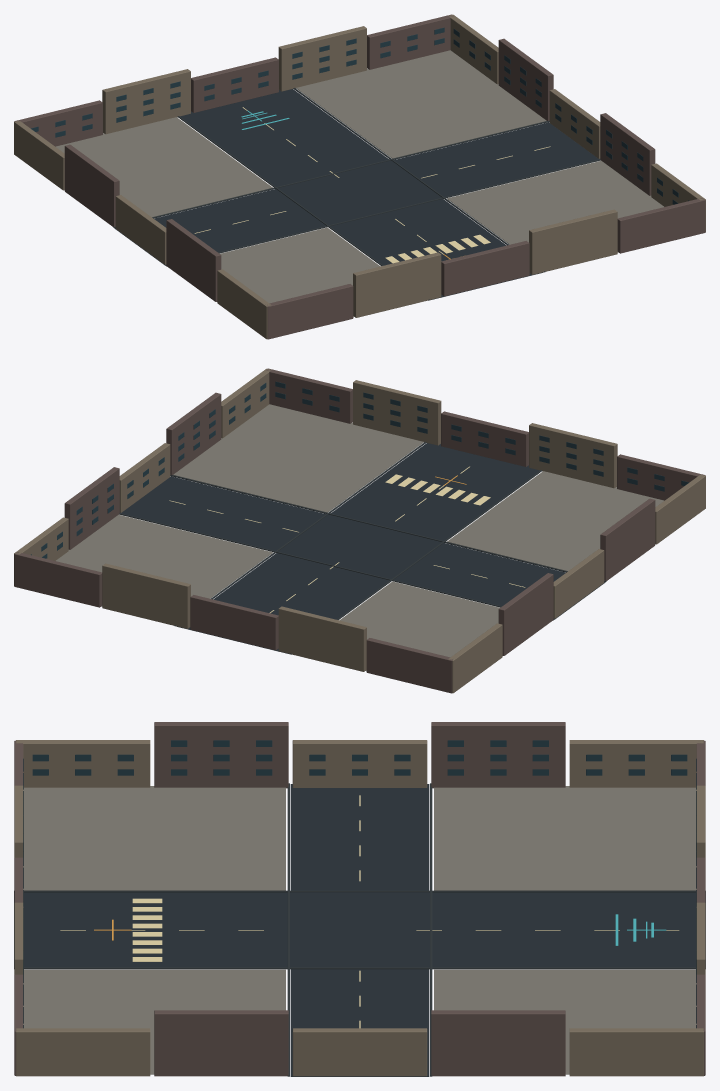
File: streetscape.glb
The picture shows the model from 3 angles, top to bottom: view 1: azimuth 30°, elevation 25°; view 2: azimuth 150°, elevation 25°; view 3: azimuth 270°, elevation 25°; orthographic projection. The views are drawn at different scales.
Parts seen in each view (by area): view 1: HorizontalRoad, VerticalRoad, SidewalkBlock.002, SidewalkBlock, SidewalkBlock.003, SidewalkBlock.001, PerimeterFacade.018, PerimeterFacade.016, PerimeterFacade.013, PerimeterFacade.011, PerimeterFacade.019, PerimeterFacade.017 (+18 smaller); view 2: HorizontalRoad, VerticalRoad, SidewalkBlock.003, SidewalkBlock.001, SidewalkBlock.002, SidewalkBlock, PerimeterFacade.013, PerimeterFacade.011, PerimeterFacade.018, PerimeterFacade.016, PerimeterFacade.014, PerimeterFacade.012 (+18 smaller); view 3: VerticalRoad, HorizontalRoad, SidewalkBlock, SidewalkBlock.001, SidewalkBlock.002, SidewalkBlock.003, PerimeterFacade.006, PerimeterFacade.008, PerimeterFacade.001, PerimeterFacade.003, PerimeterFacade.007, PerimeterFacade.005 (+14 smaller).
Part boxes in pixels (x1,y1,x2,y2): HorizontalRoad: [114, 122, 599, 265]; VerticalRoad: [180, 89, 543, 300]; SidewalkBlock.002: [296, 50, 546, 158]; SidewalkBlock: [56, 117, 272, 217]; SidewalkBlock.003: [447, 160, 663, 252]; SidewalkBlock.001: [220, 227, 380, 317]; PerimeterFacade.018: [529, 209, 617, 274]; PerimeterFacade.016: [353, 252, 441, 317]; PerimeterFacade.013: [278, 26, 366, 91]; PerimeterFacade.011: [102, 69, 190, 134]; PerimeterFacade.019: [617, 198, 705, 253]; PerimeterFacade.017: [441, 241, 529, 296]; HorizontalRoad: [120, 476, 605, 619]; VerticalRoad: [176, 443, 539, 654]; SidewalkBlock.003: [173, 404, 423, 512]; SidewalkBlock.001: [447, 471, 663, 571]; SidewalkBlock.002: [56, 514, 272, 606]; SidewalkBlock: [339, 581, 499, 671]; PerimeterFacade.013: [102, 563, 190, 628]; PerimeterFacade.011: [278, 606, 366, 671]; PerimeterFacade.018: [353, 380, 441, 445]; PerimeterFacade.016: [529, 423, 617, 488]; PerimeterFacade.014: [14, 552, 102, 607]; PerimeterFacade.012: [190, 595, 278, 650]; VerticalRoad: [14, 892, 705, 967]; HorizontalRoad: [290, 784, 429, 1076]; SidewalkBlock: [434, 786, 696, 890]; SidewalkBlock.001: [23, 786, 285, 890]; SidewalkBlock.002: [434, 969, 696, 1074]; SidewalkBlock.003: [23, 969, 285, 1074]; PerimeterFacade.006: [431, 1010, 565, 1076]; PerimeterFacade.008: [154, 1010, 288, 1076]; PerimeterFacade.001: [431, 722, 565, 788]; PerimeterFacade.003: [154, 722, 288, 788]; PerimeterFacade.007: [292, 1028, 427, 1076]; PerimeterFacade.005: [569, 1028, 703, 1076].
Bounding box in the file's own units: 70 × 7 × 70.
